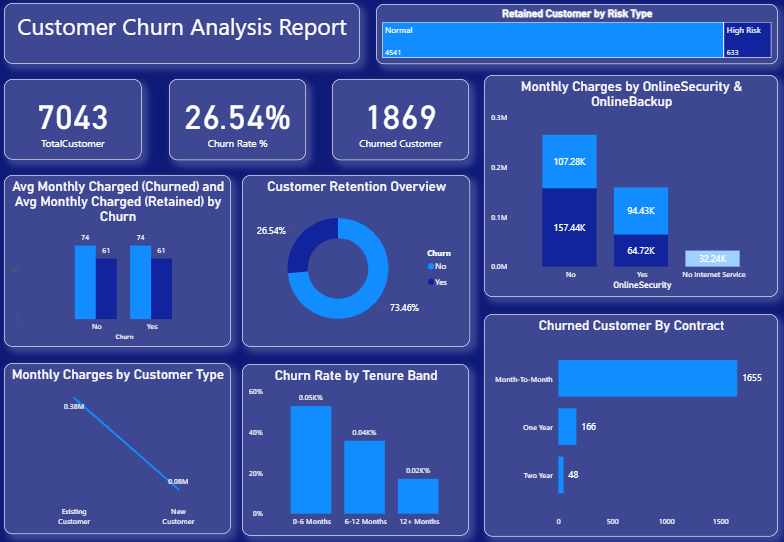

What the dashboard file says about the page in this screenshot:
{"tool":"powerbi","page":{"name":"Page 1","canvas":[1280,900],"ordinal":0},"visuals":[{"type":"textbox","box":[15.3,13.4,574,97.6],"z":0},{"type":"treemap","fields":{"Values":["Calculated Measures.Retained Customer"],"Group":["telco_churn_unclean.Risk Type"]},"box":[614.8,14.8,647.5,96.7],"z":1000},{"type":"card","fields":{"Values":["Calculated Measures.TotalCustomer"]},"box":[15.3,135.8,221.9,130.1],"z":2000},{"type":"card","fields":{"Values":["Calculated Measures.Churn %"]},"box":[279.9,135.5,221,130.6],"z":3000},{"type":"card","fields":{"Values":["Calculated Measures.Churned Customer"]},"box":[543.5,135.5,221,130.6],"z":4000},{"type":"donutChart","title":"Customer Retention Overview","fields":{"Y":["Calculated Measures.TotalCustomer"],"Category":["telco_churn_unclean.Churn"]},"box":[398.4,290.3,367.7,277.4],"z":5000},{"type":"barChart","title":"Churned Customer By Contract","fields":{"Category":["telco_churn_unclean.Contract"],"Y":["Calculated Measures.Churned Customer"]},"box":[788.6,514.3,474.3,358.6],"z":6000},{"type":"columnChart","title":"Monthly Charges by OnlineSecurity & OnlineBackup","fields":{"Category":["telco_churn_unclean.OnlineSecurity"],"Y":["Sum(telco_churn_unclean.MonthlyCharges)"],"Series":["telco_churn_unclean.OnlineBackup"]},"box":[788.8,128.5,474.4,358.1],"z":7000},{"type":"columnChart","title":"Churn Rate by Tenure Band","fields":{"Y":["Calculated Measures.Churn %"],"Category":["telco_churn_unclean.Tenurse Band"]},"box":[398.4,595.2,366.1,277.4],"z":8000},{"type":"clusteredColumnChart","fields":{"Y":["Calculated Measures.Average monthly charges (Churned only)","Calculated Measures.Average monthly charges (Retained only)"],"Category":["telco_churn_unclean.Churn"]},"box":[14.5,290.3,366.1,277.4],"z":9000},{"type":"lineChart","title":"Monthly Charges by Customer Type","fields":{"Category":["telco_churn_unclean.Customer Type"],"Y":["Sum(telco_churn_unclean.MonthlyCharges)"]},"box":[15.2,594.3,365.7,276.5],"z":10000}]}

Visuals, with their boxes in screenshot pixels (x1, y1, x2, y2), scaled from the page's 1280x900 canvas onto the 784x542 screenshot:
textbox: {"x1": 9, "y1": 8, "x2": 361, "y2": 67}
treemap - Calculated Measures.Retained Customer x telco_churn_unclean.Risk Type: {"x1": 377, "y1": 9, "x2": 773, "y2": 67}
card - Calculated Measures.TotalCustomer: {"x1": 9, "y1": 82, "x2": 145, "y2": 160}
card - Calculated Measures.Churn %: {"x1": 171, "y1": 82, "x2": 307, "y2": 160}
card - Calculated Measures.Churned Customer: {"x1": 333, "y1": 82, "x2": 468, "y2": 160}
"Customer Retention Overview" donutChart: {"x1": 244, "y1": 175, "x2": 469, "y2": 342}
"Churned Customer By Contract" barChart: {"x1": 483, "y1": 310, "x2": 774, "y2": 526}
"Monthly Charges by OnlineSecurity & OnlineBackup" columnChart: {"x1": 483, "y1": 77, "x2": 774, "y2": 293}
"Churn Rate by Tenure Band" columnChart: {"x1": 244, "y1": 358, "x2": 468, "y2": 525}
clusteredColumnChart - Calculated Measures.Average monthly charges (Churned only) x Calculated Measures.Average monthly charges (Retained only): {"x1": 9, "y1": 175, "x2": 233, "y2": 342}
"Monthly Charges by Customer Type" lineChart: {"x1": 9, "y1": 358, "x2": 233, "y2": 524}
